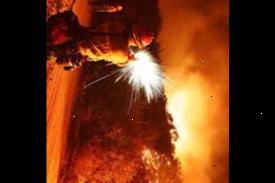fire: (159, 88, 196, 150)
